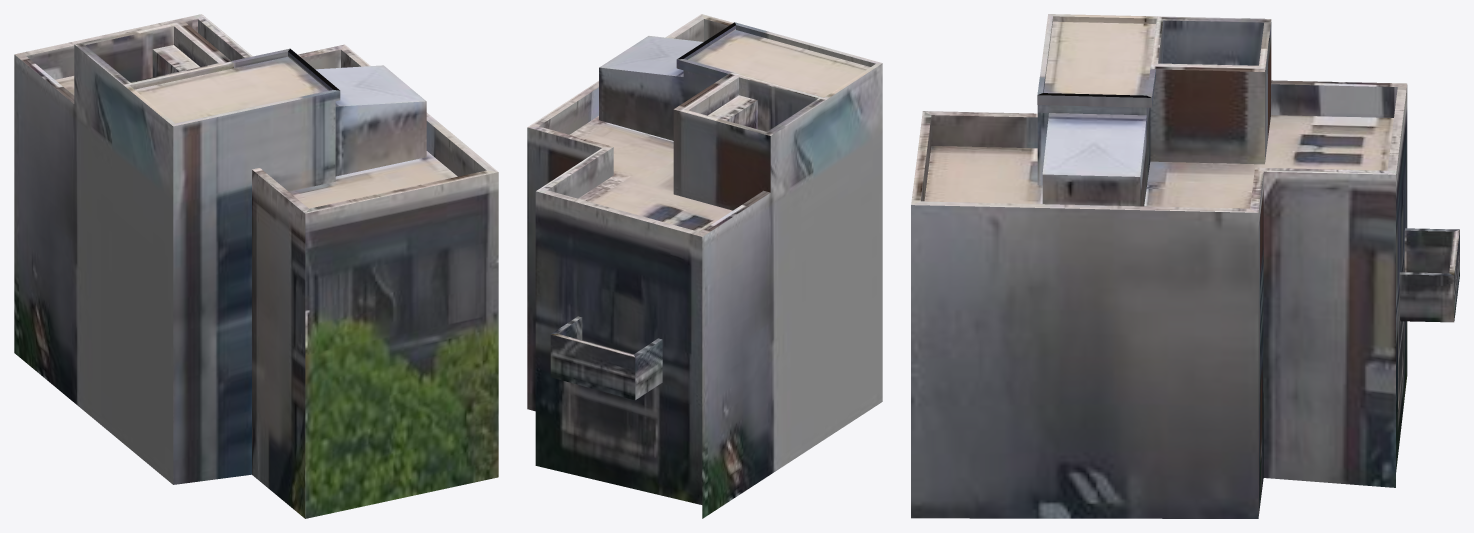
3 renders of one model, left to right at view 1: azimuth 30°, elevation 25°; view 2: azimuth 150°, elevation 25°; view 3: azimuth 270°, elevation 25°, orthographic. The views are drawn at different scales.
Visible parts, largest first — view 1: B283254030801062A0; view 2: B283254030801062A0; view 3: B283254030801062A0.
Boxes of the visible parts, x1=… form: B283254030801062A0: x1=14, y1=14, x2=498, y2=518; B283254030801062A0: x1=527, y1=14, x2=882, y2=518; B283254030801062A0: x1=911, y1=14, x2=1459, y2=518.
Bounding box in the file's own units: 8.89 × 11.32 × 15.02.
Materials: 1 (1 with a texture image).
